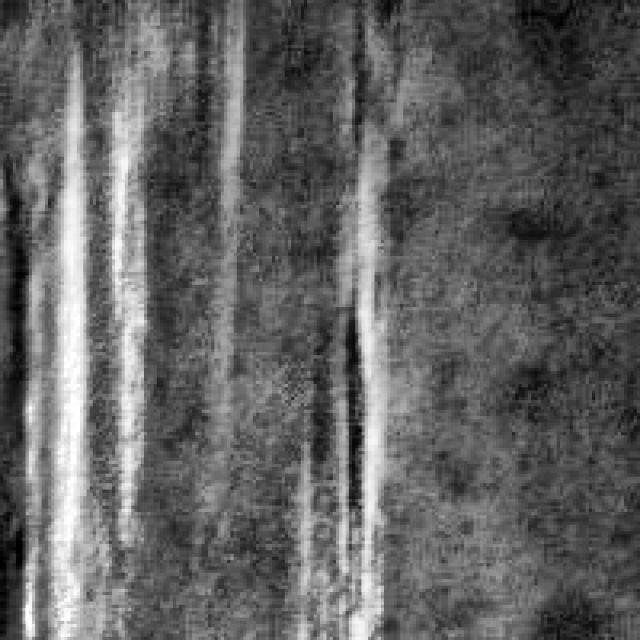Inclusion: (12, 92, 84, 630), (99, 138, 160, 516), (342, 195, 390, 621)
